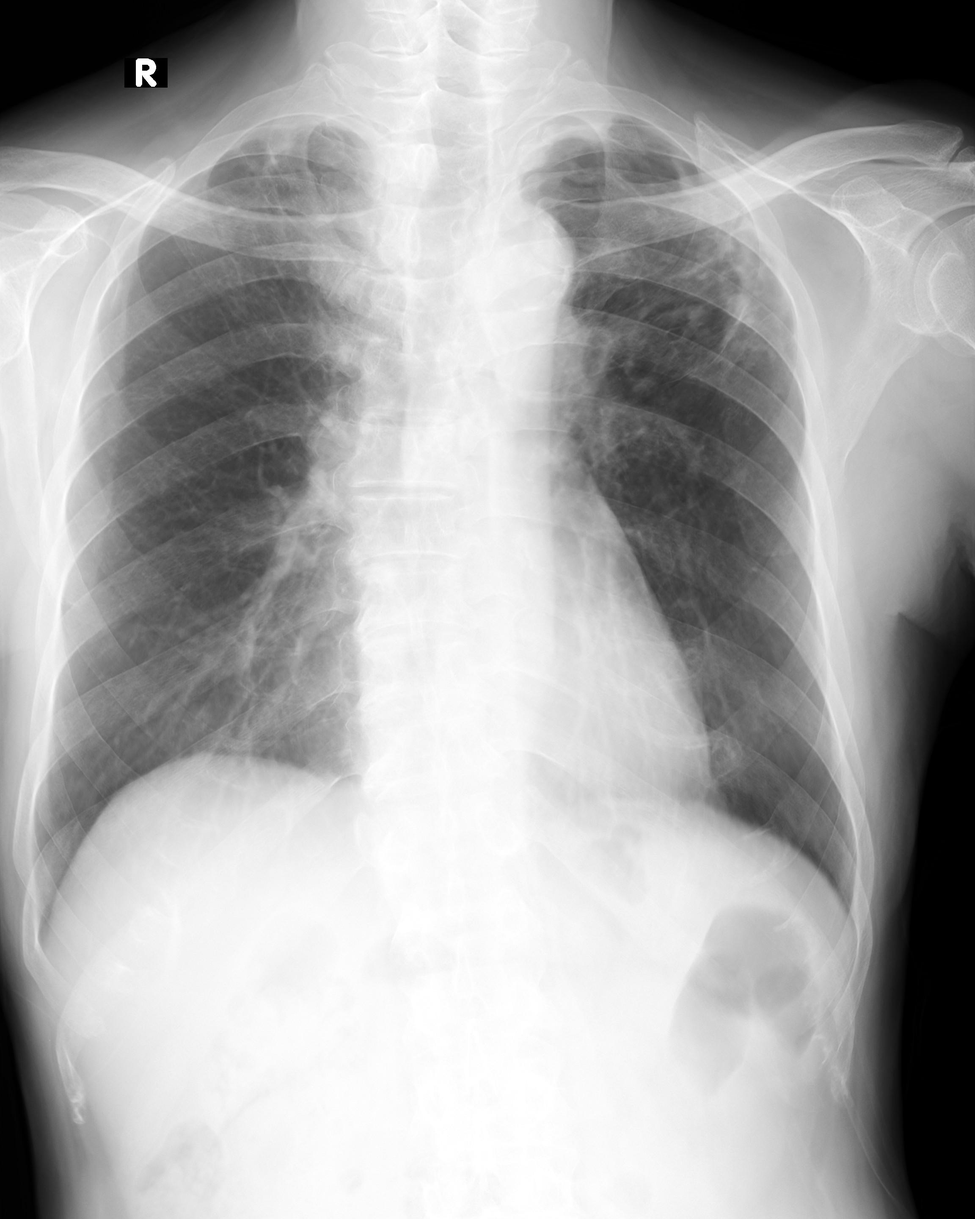Pulmonary fibrosis: (592, 127, 793, 357), (212, 121, 354, 251)
